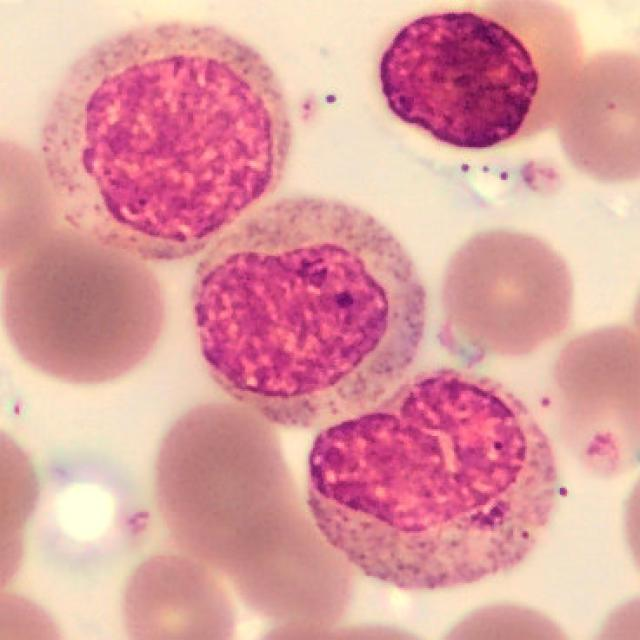Bastonete: (306, 372, 558, 592)
Linfocito: (379, 12, 539, 150)
Mielocito: (42, 21, 290, 259), (191, 201, 426, 431)
